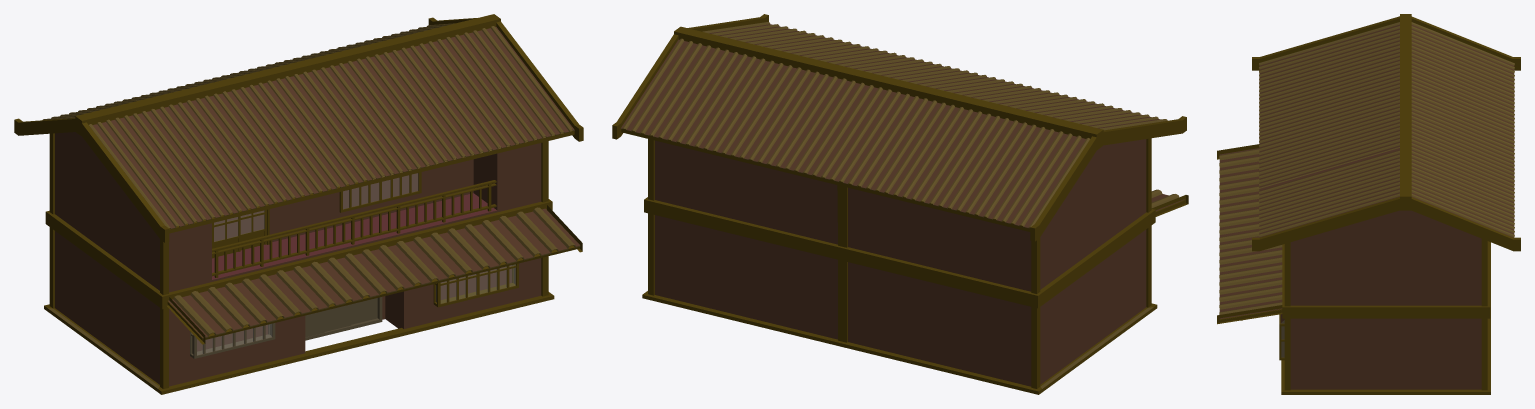
Rendered from Casa 2.fbx.
3 views of the same model, side by side, from view 1: azimuth 30°, elevation 25°; view 2: azimuth 150°, elevation 25°; view 3: azimuth 270°, elevation 25° (orthographic). The views are drawn at different scales.
Visible parts, largest first — view 1: polySurface714; view 2: polySurface714; view 3: polySurface714.
Part boxes in pixels (x1,y1,x2,y2): polySurface714: [14, 14, 583, 394]; polySurface714: [612, 14, 1188, 394]; polySurface714: [1217, 14, 1520, 394].
Size of the model in its own units: 137 by 71.27 by 96.17.
